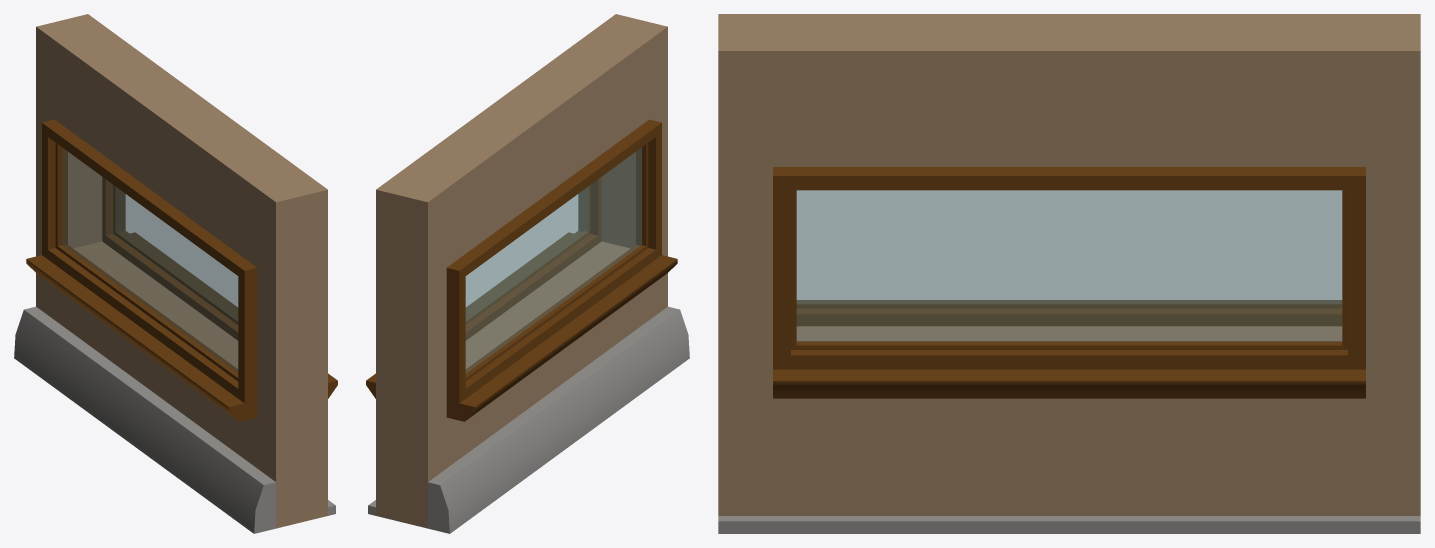
Rendered from SM_Wall_Window_Large.fbx.
3 views of the same model, side by side, from view 1: azimuth 30°, elevation 25°; view 2: azimuth 150°, elevation 25°; view 3: azimuth 270°, elevation 25° (orthographic). The views are drawn at different scales.
Parts seen in each view (by area): view 1: SM_Wall_Window_Large_NoTop, SM_Window_Large; view 2: SM_Wall_Window_Large_NoTop, SM_Window_Large; view 3: SM_Wall_Window_Large_NoTop, SM_Window_Large.
Boxes of the visible parts, x1,y1,x2,y2 form: SM_Wall_Window_Large_NoTop: [14, 14, 337, 533]; SM_Window_Large: [62, 147, 238, 373]; SM_Wall_Window_Large_NoTop: [366, 14, 689, 533]; SM_Window_Large: [465, 147, 641, 373]; SM_Wall_Window_Large_NoTop: [718, 14, 1420, 533]; SM_Window_Large: [796, 190, 1342, 341].
Bounding box in the file's own units: 105 × 300 × 400.
